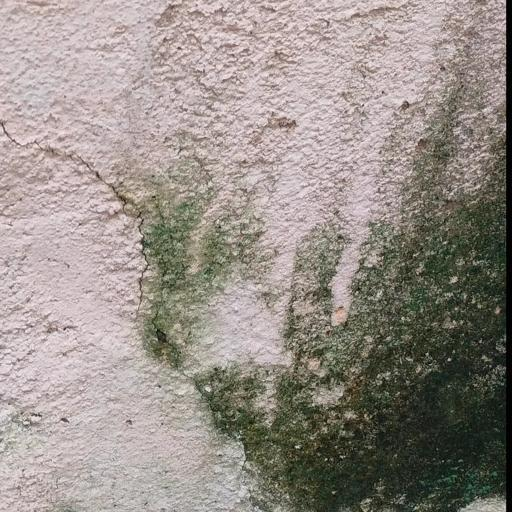algae: (114, 78, 511, 512)
